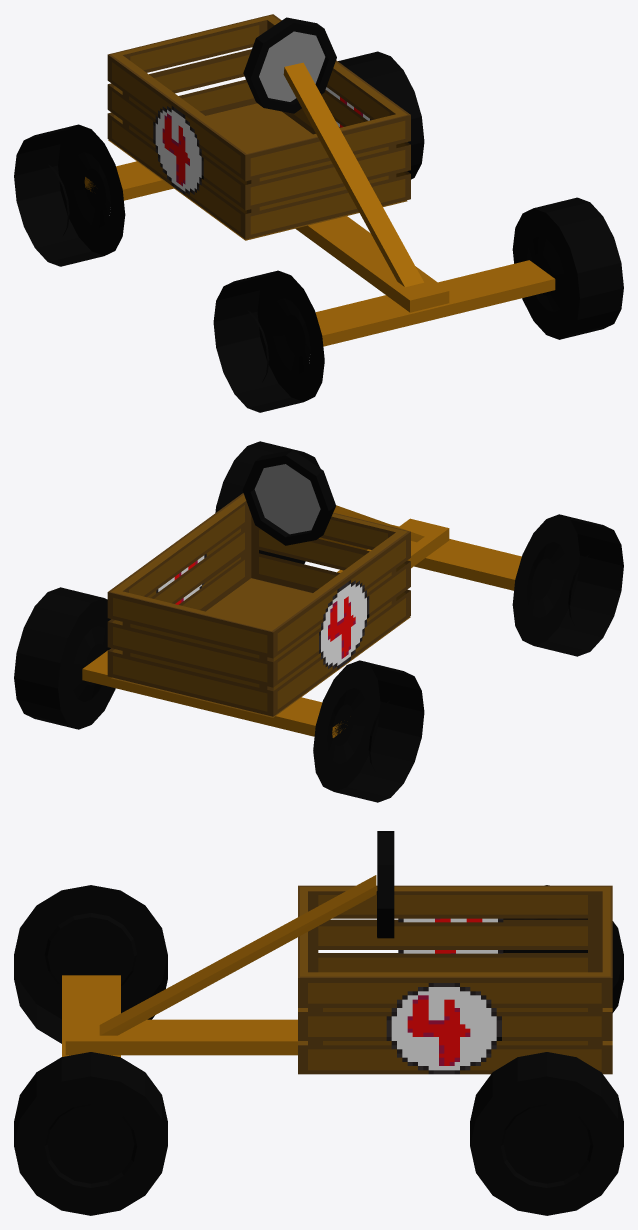
File: boxcartTextured.glb
The picture shows the model from 3 angles, top to bottom: view 1: azimuth 30°, elevation 25°; view 2: azimuth 150°, elevation 25°; view 3: azimuth 270°, elevation 25°; orthographic projection. The views are drawn at different scales.
Parts seen in each view (by area): view 1: Mainbody, FrontWheel R, RearWheel R, FrontWheel L, RearWheel L; view 2: Mainbody, FrontWheel R, RearWheel R, RearWheel L, FrontWheel L; view 3: Mainbody, RearWheel L, FrontWheel L, FrontWheel R, RearWheel R.
Boxes of the visible parts, x1,y1,x2,y2 form: Mainbody: [84, 14, 555, 346]; FrontWheel R: [213, 270, 324, 412]; RearWheel R: [14, 124, 125, 266]; FrontWheel L: [512, 197, 623, 339]; RearWheel L: [338, 51, 424, 179]; Mainbody: [82, 450, 521, 737]; FrontWheel R: [512, 514, 623, 656]; RearWheel R: [313, 660, 424, 802]; RearWheel L: [14, 587, 115, 729]; FrontWheel L: [215, 441, 320, 564]; Mainbody: [62, 831, 612, 1074]; RearWheel L: [470, 1052, 623, 1215]; FrontWheel L: [14, 1052, 167, 1215]; FrontWheel R: [14, 885, 167, 1043]; RearWheel R: [503, 885, 623, 1012].
Size of the model in its own units: 5.88 by 4.12 by 7.93.
1 material, 1 textured.
